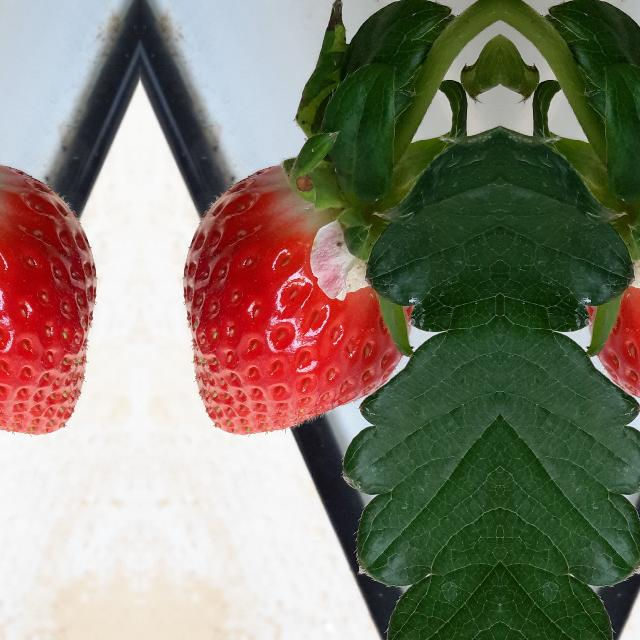Health_100: (182, 164, 414, 436), (0, 163, 98, 436), (586, 163, 640, 436)
